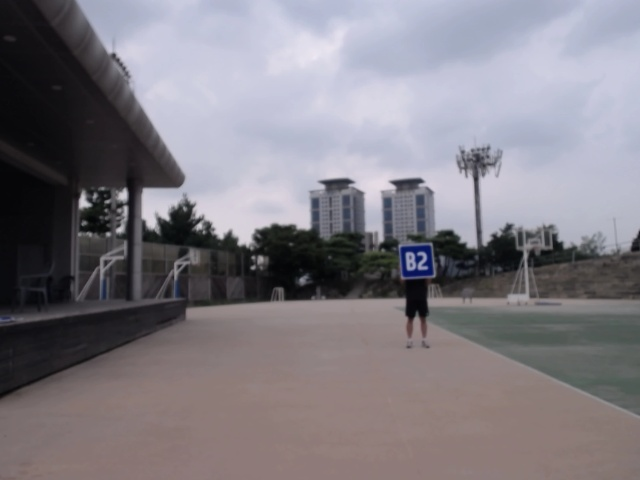delivery_b2: (398, 243, 437, 279)
